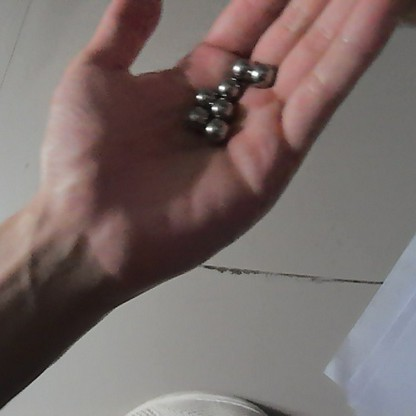ironball: (203, 117, 230, 145), (248, 61, 278, 86), (228, 56, 255, 81), (208, 96, 235, 120), (215, 74, 243, 96), (186, 105, 210, 129), (193, 87, 215, 108)
